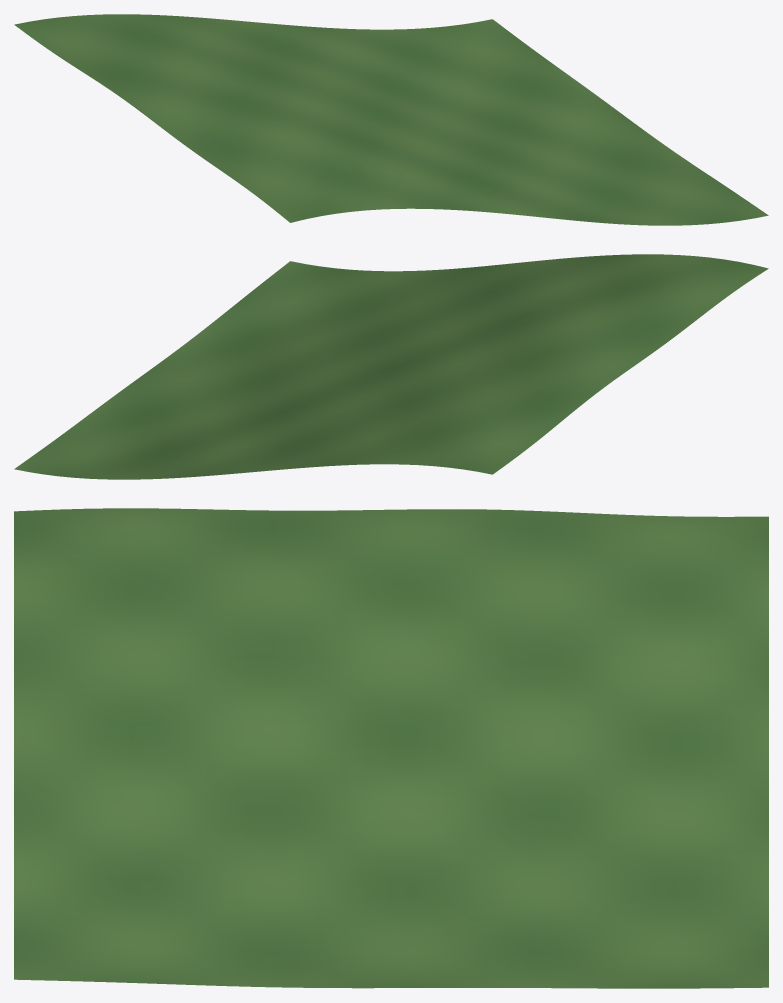
File: chunk_0_10.glb
3 views of the same model, one above another, from view 1: azimuth 30°, elevation 25°; view 2: azimuth 150°, elevation 25°; view 3: azimuth 270°, elevation 25° (orthographic). The views are drawn at different scales.
Size of the model in its own units: 512 by 121 by 512.
